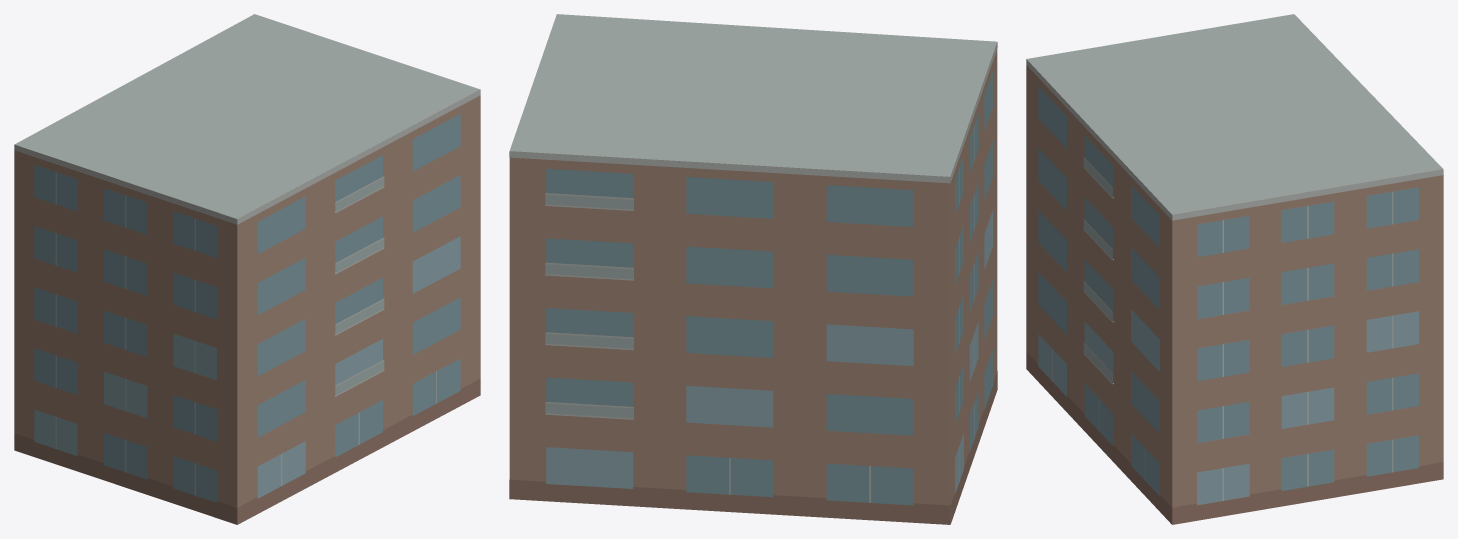
Rendered from survey-upis-32941126.glb.
3 views of the same model, side by side, from view 1: azimuth 30°, elevation 25°; view 2: azimuth 150°, elevation 25°; view 3: azimuth 270°, elevation 25° (orthographic). The views are drawn at different scales.
Visible parts, largest first — view 1: survey-upis-32941126.tmp; view 2: survey-upis-32941126.tmp; view 3: survey-upis-32941126.tmp.
Part boxes in pixels (x1=…): survey-upis-32941126.tmp: x1=14, y1=14, x2=480, y2=524; survey-upis-32941126.tmp: x1=509, y1=14, x2=997, y2=524; survey-upis-32941126.tmp: x1=1026, y1=14, x2=1443, y2=524.
Size of the model in its own units: 18.29 by 13.15 by 16.05.
